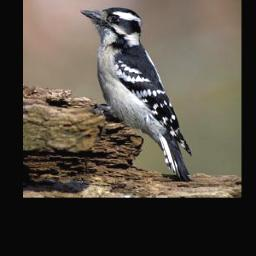Woodpecker: (80, 4, 193, 184)
